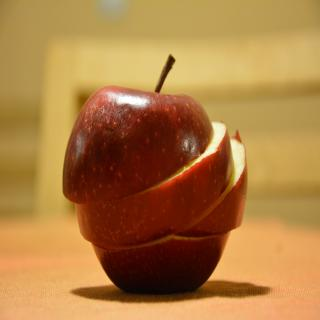Apple: (61, 70, 245, 300)
